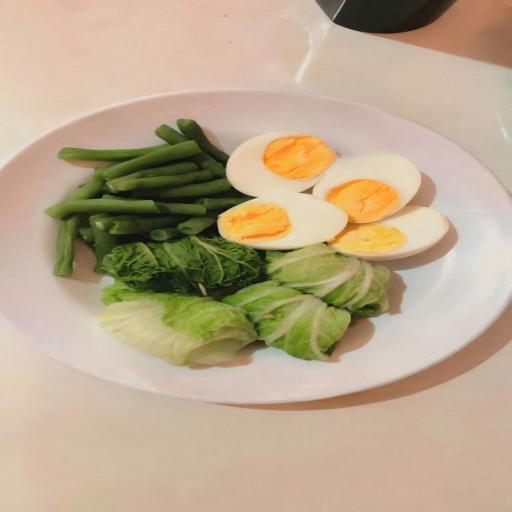buncis_rebus: (8, 107, 232, 246)
